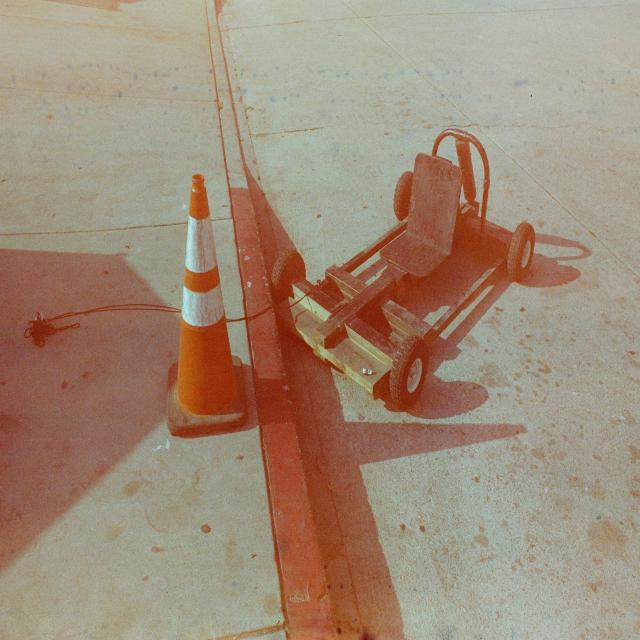Traffic Cone: (144, 150, 266, 450)
